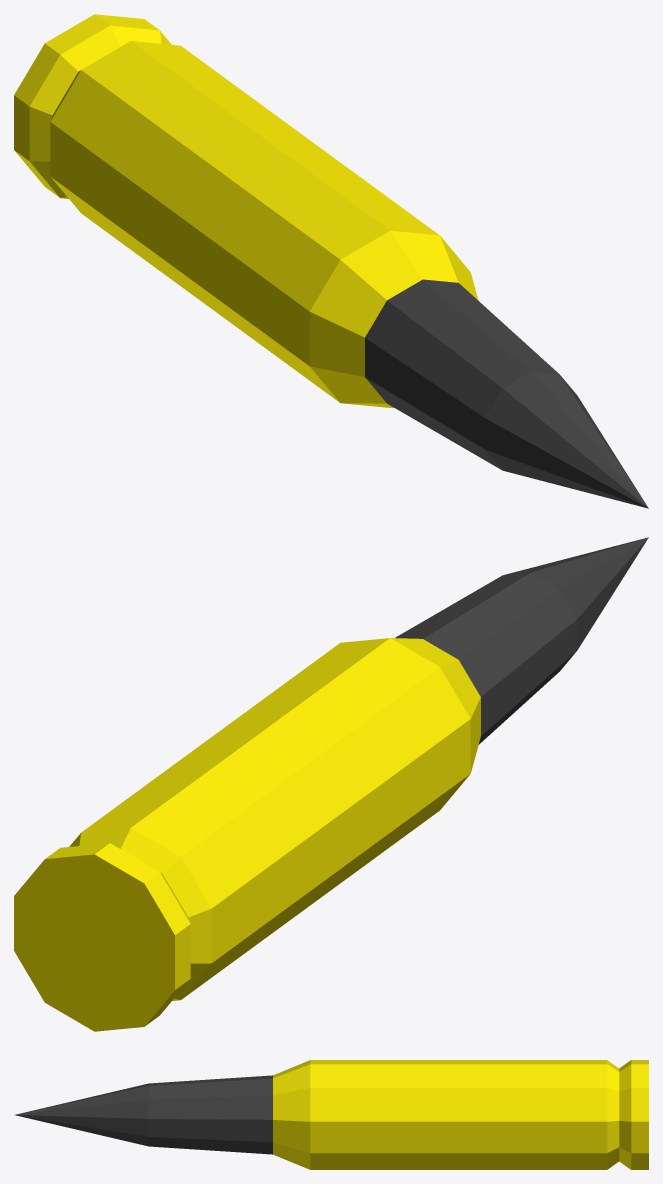
The model's file is Bullet.fbx.
3 renders of one model, top to bottom at view 1: azimuth 30°, elevation 25°; view 2: azimuth 150°, elevation 25°; view 3: azimuth 270°, elevation 25°, orthographic. The views are drawn at different scales.
Visible parts, largest first — view 1: Bullet; view 2: Bullet; view 3: Bullet.
Boxes of the visible parts, <box> form: Bullet: <box>14,14,648,508</box>; Bullet: <box>14,537,648,1031</box>; Bullet: <box>15,1060,648,1169</box>.
Size of the model in its own units: 2.56 by 2.69 by 15.24.
1 material, 1 textured.
